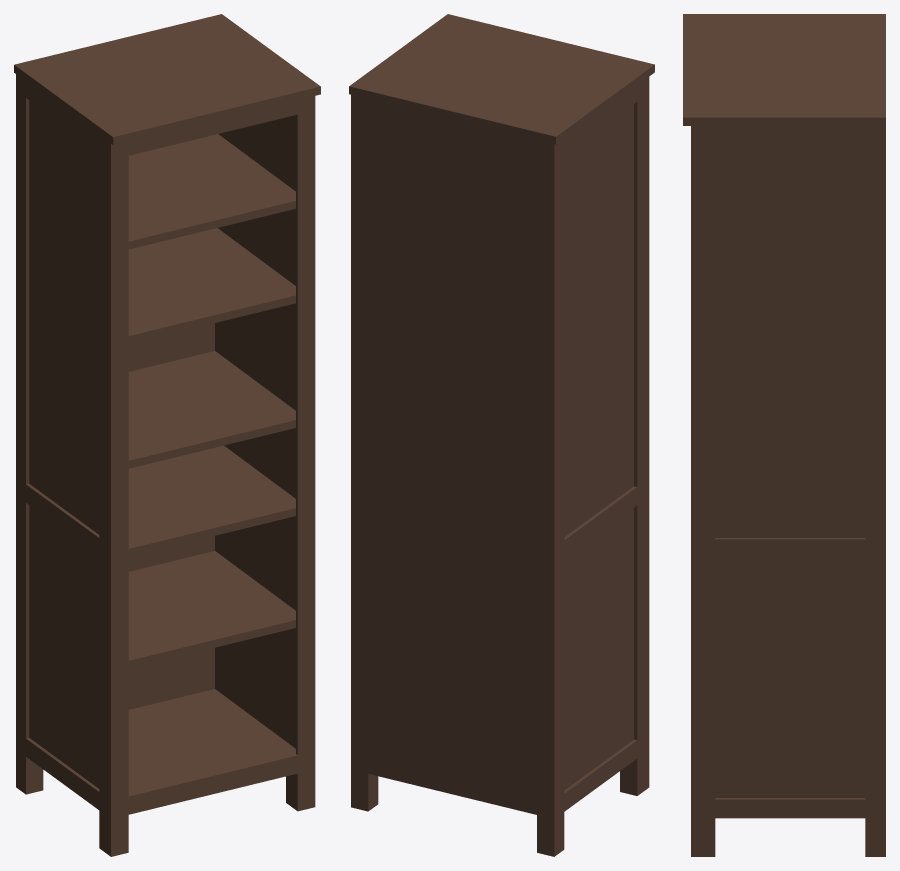
File: bookstand.fbx
3 views of the same model, side by side, from view 1: azimuth 30°, elevation 25°; view 2: azimuth 150°, elevation 25°; view 3: azimuth 270°, elevation 25° (orthographic). The views are drawn at different scales.
Visible parts, largest first — view 1: bookstand; view 2: bookstand; view 3: bookstand.
Part boxes in pixels (<box>): bookstand: <box>14,14,320,856</box>; bookstand: <box>349,14,654,856</box>; bookstand: <box>683,14,885,856</box>.
Bounding box in the file's own units: 156 × 519 × 129.
